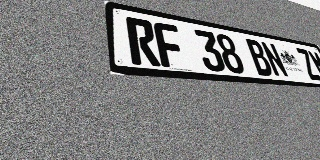3: (194, 29, 227, 72)
8: (214, 33, 246, 74)
B: (244, 38, 275, 77)
F: (153, 21, 187, 69)
M: (306, 50, 320, 82)
N: (260, 41, 290, 78)
R: (125, 16, 161, 67)
Z: (295, 47, 320, 81)
